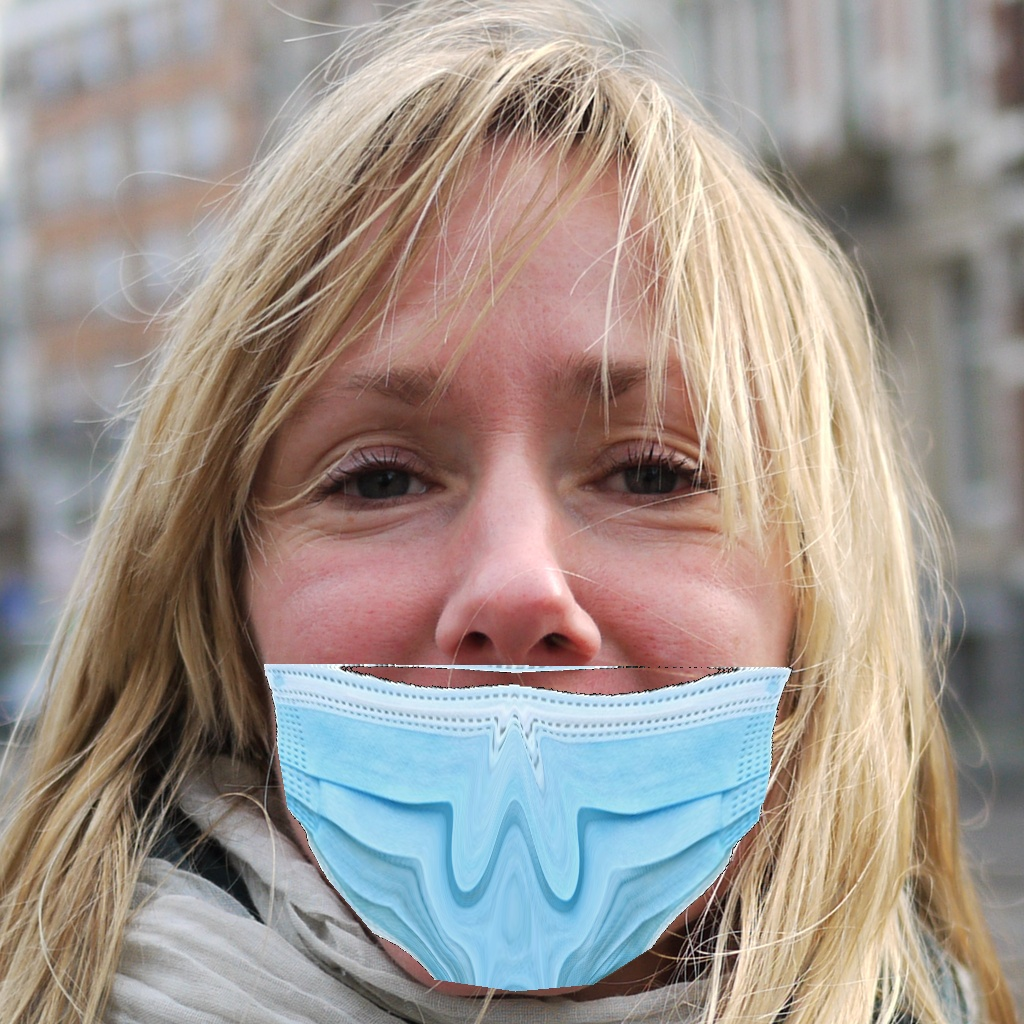mask_weared_incorrect: (211, 372, 825, 1005)
